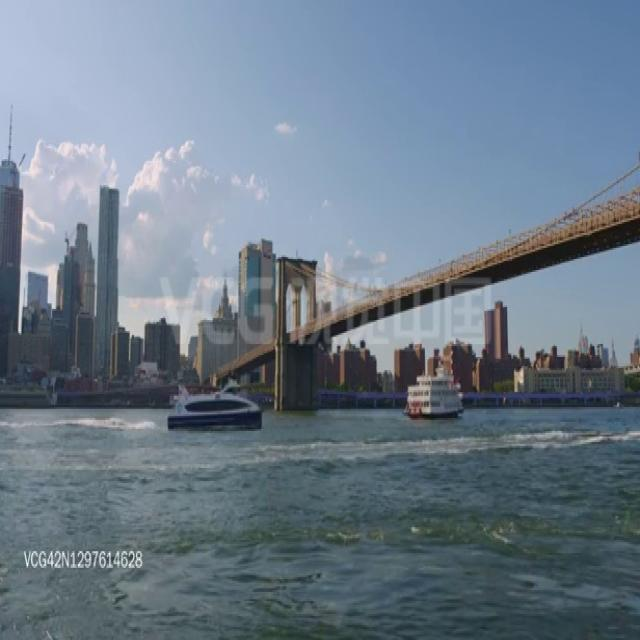passenger ship: (162, 378, 262, 427), (405, 368, 462, 415)
